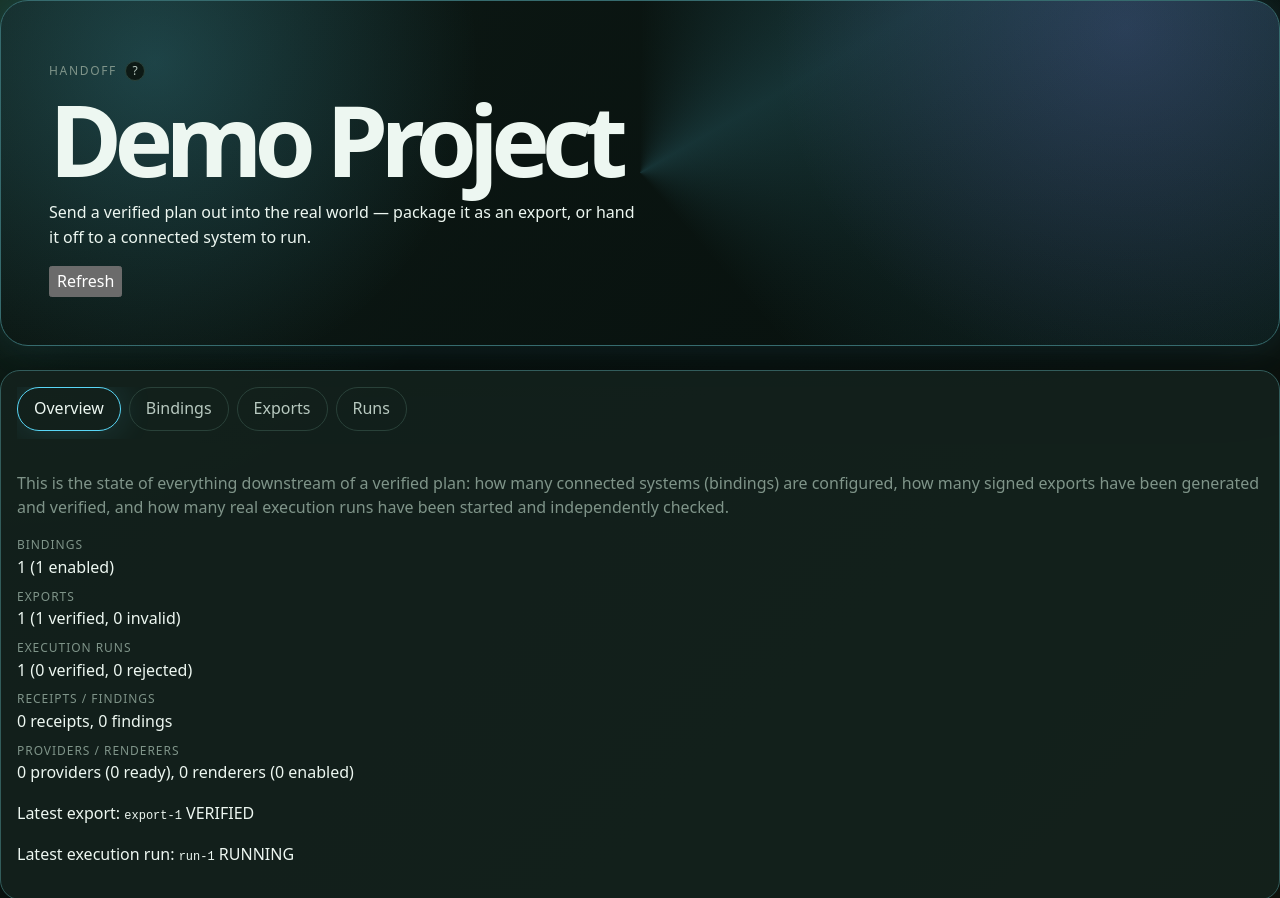
Test: HandoffWorkspace › offers a retry when the automatic download-link fetch fails, instead of a dead end
Click the tab "Exports".
click(282, 409)  # box [237, 387, 328, 431]
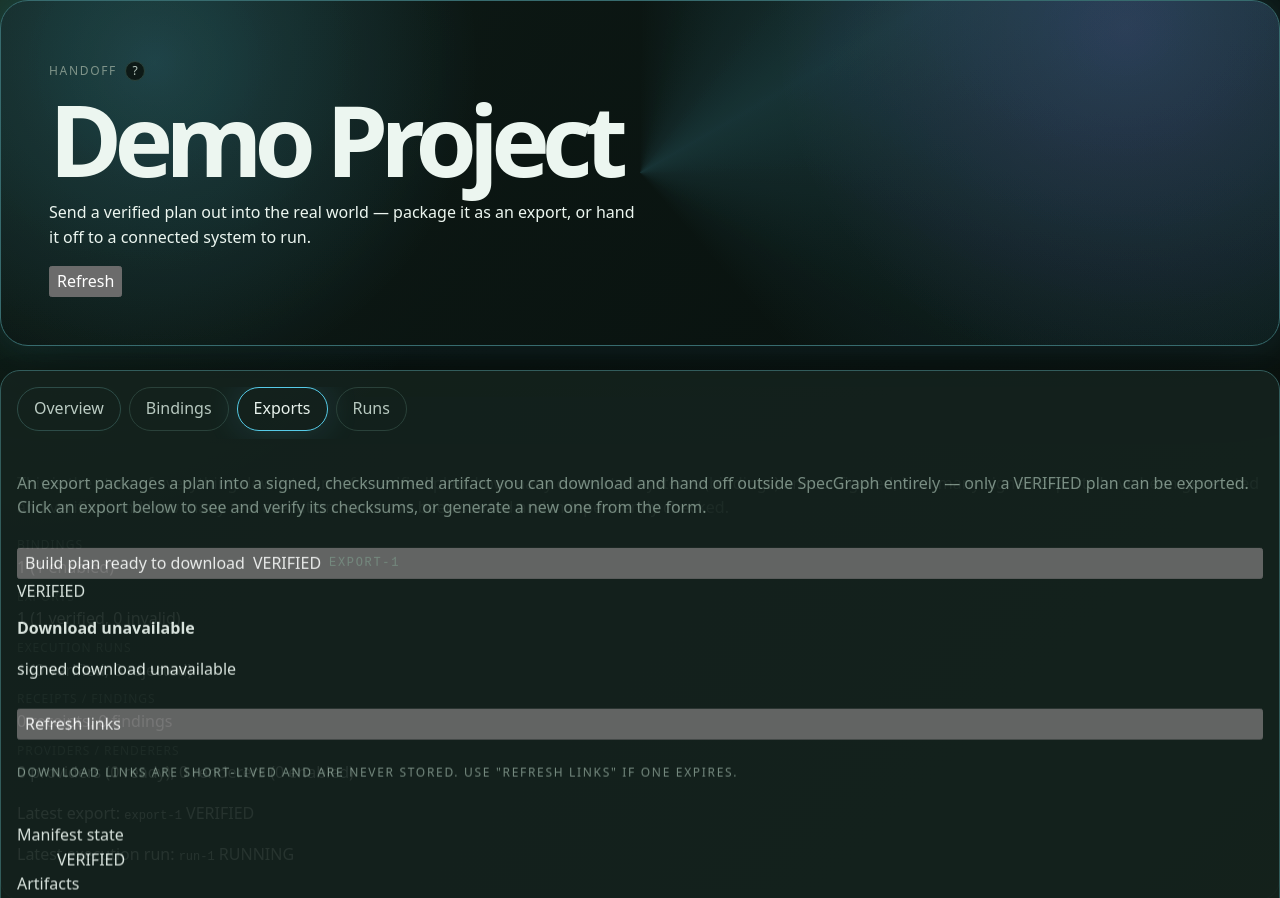
Check: the text "Download unavailable" is shown, box [17, 617, 195, 639]
Click the button "Refresh links".
click(73, 724)  # box [17, 709, 1263, 740]
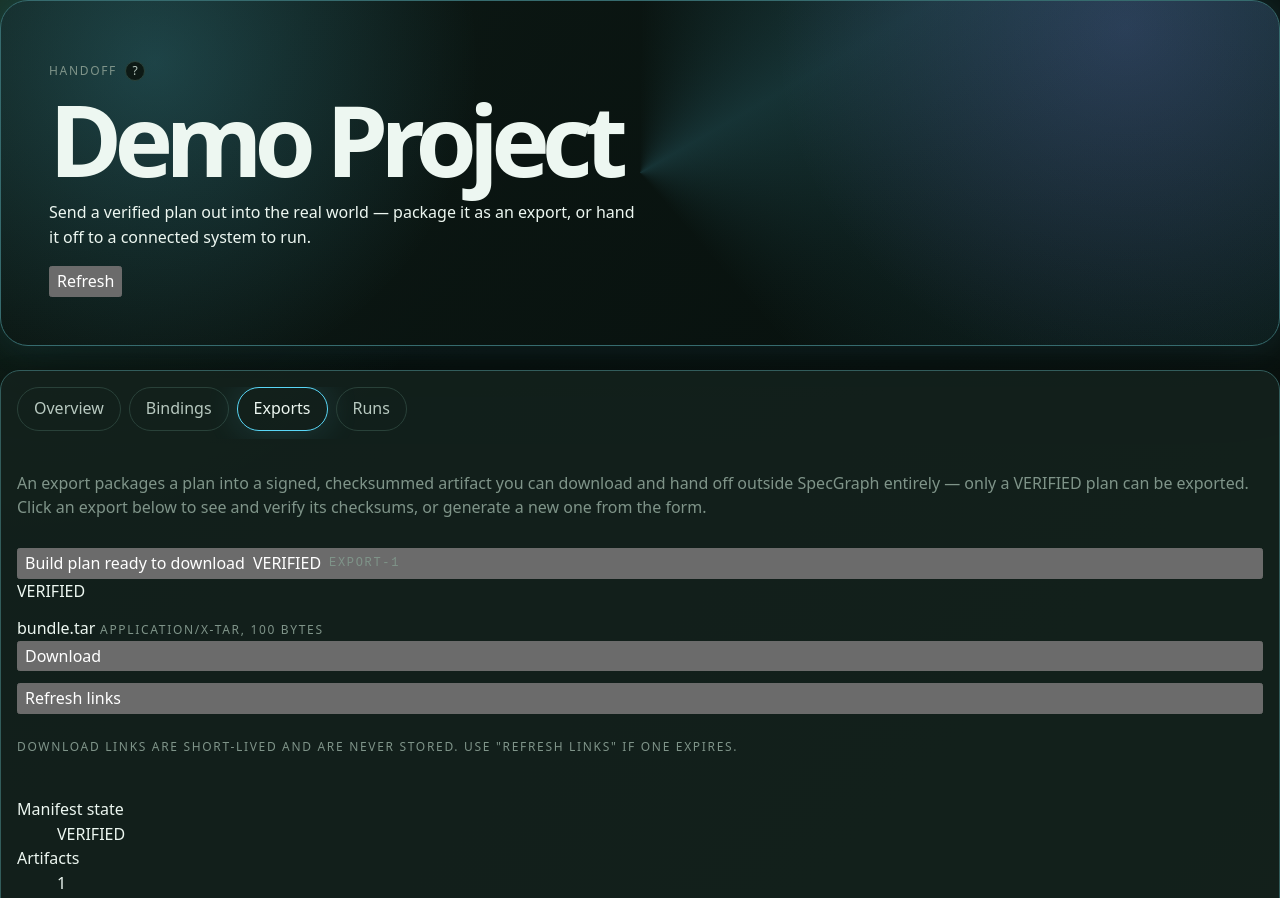
Check: the text "bundle.tar" is shown, box [17, 617, 95, 639]
